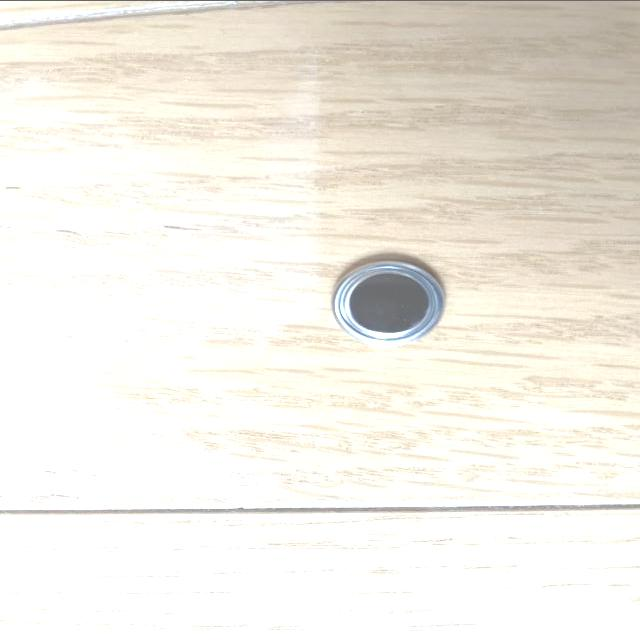COIN: (328, 256, 446, 346)
